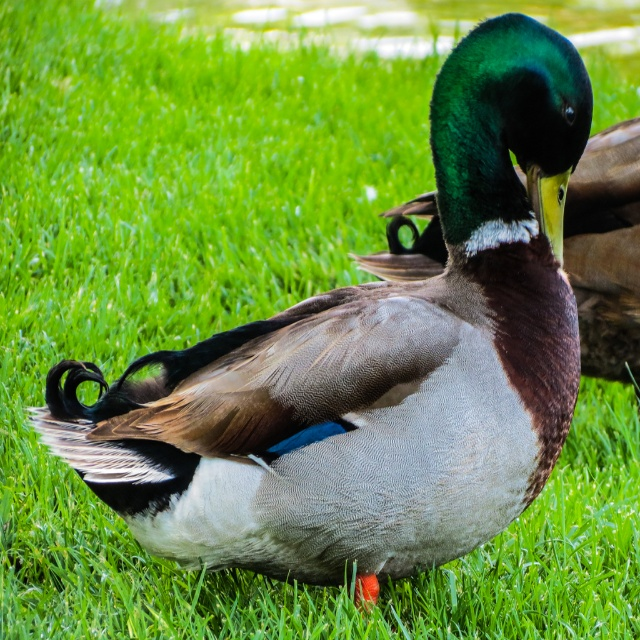Duck: (18, 42, 605, 614)
